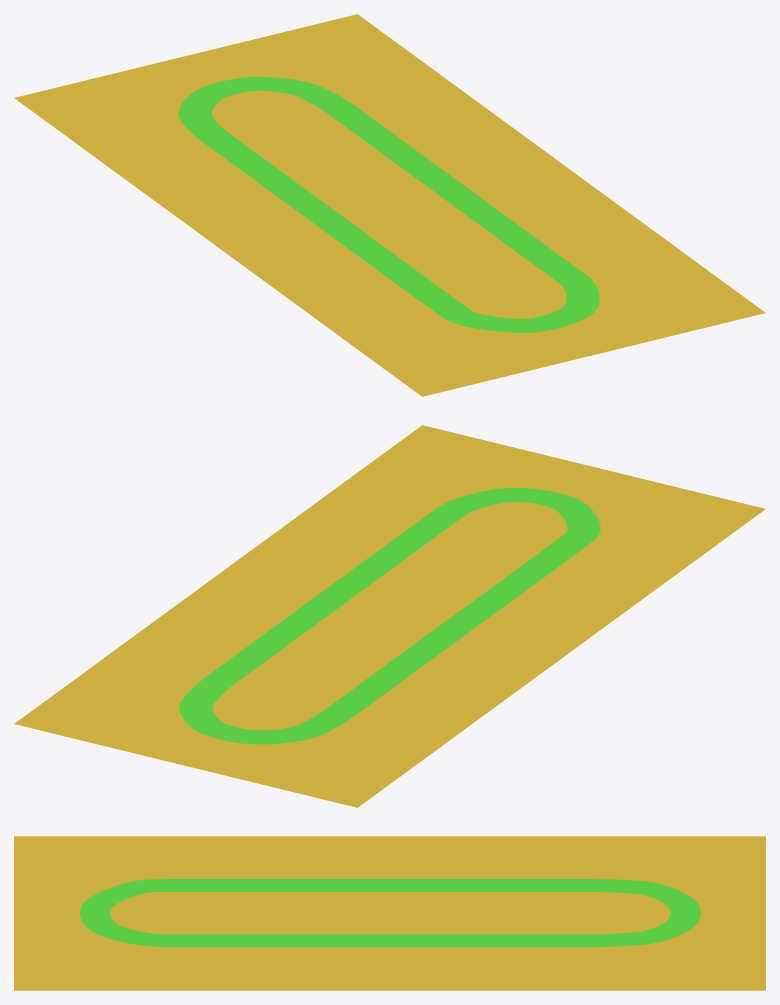
File: race_track_7.fbx
3 renders of one model, top to bottom at view 1: azimuth 30°, elevation 25°; view 2: azimuth 150°, elevation 25°; view 3: azimuth 270°, elevation 25°, orthographic. The views are drawn at different scales.
Parts seen in each view (by area): view 1: Ground, Racetrack; view 2: Ground, Racetrack; view 3: Ground, Racetrack.
Part boxes in pixels (x1,y1,x2,y2): Ground: (14,14,765,396); Racetrack: (178,76,599,332); Ground: (14,425,765,807); Racetrack: (179,487,600,744); Ground: (14,836,765,990); Racetrack: (80,879,700,947).
Size of the model in its own units: 4925 by 2393 by 2.23.
